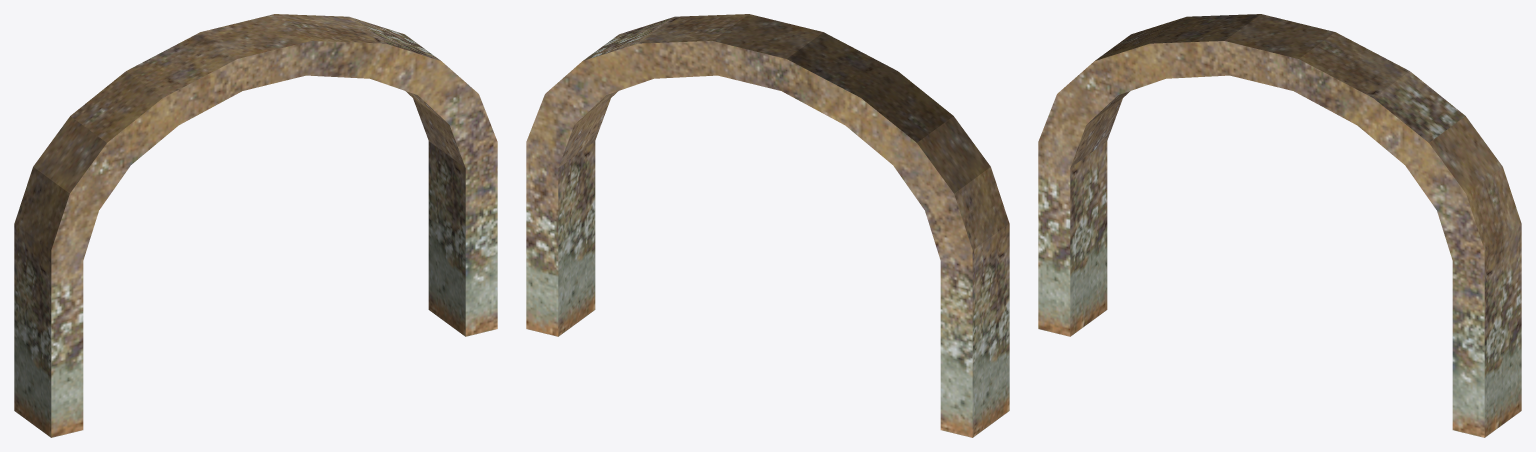
File: darch3.fbx
3 views of the same model, side by side, from view 1: azimuth 30°, elevation 25°; view 2: azimuth 150°, elevation 25°; view 3: azimuth 330°, elevation 25° (orthographic).
Parts seen in each view (by area): view 1: darch3; view 2: darch3; view 3: darch3.
Boxes of the visible parts, box(x1,y1,x2,y2) form: darch3: box(14, 14, 497, 437); darch3: box(526, 14, 1009, 437); darch3: box(1038, 14, 1521, 437).
Size of the model in its own units: 22400 by 16000 by 3200.
